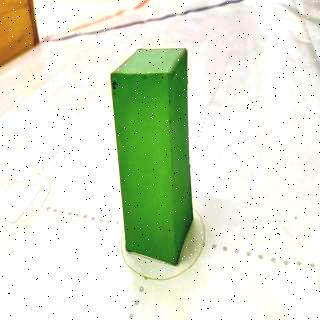greenbox: (110, 45, 192, 266)
